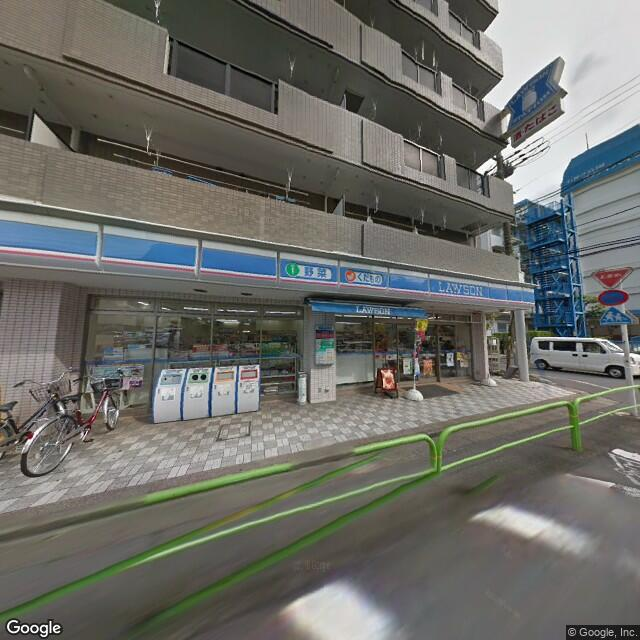lawson: (1, 207, 535, 308), (506, 55, 561, 125)
